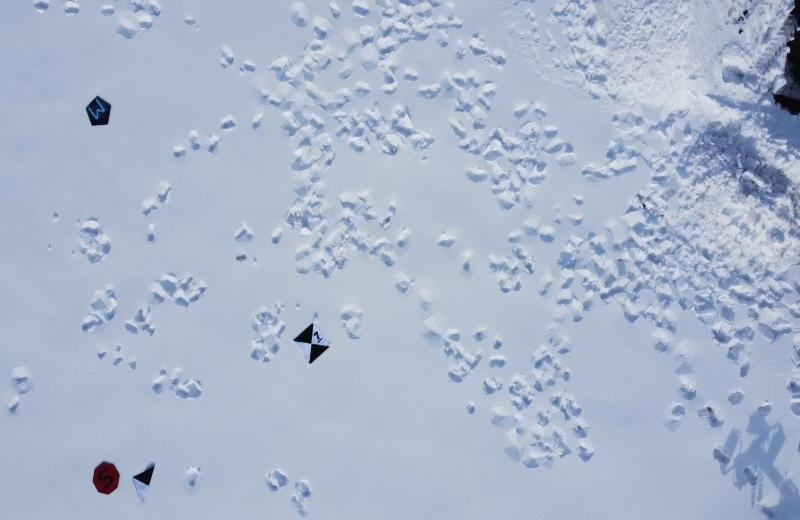Octagon: (91, 457, 122, 499)
Pentagon: (81, 95, 114, 130)
